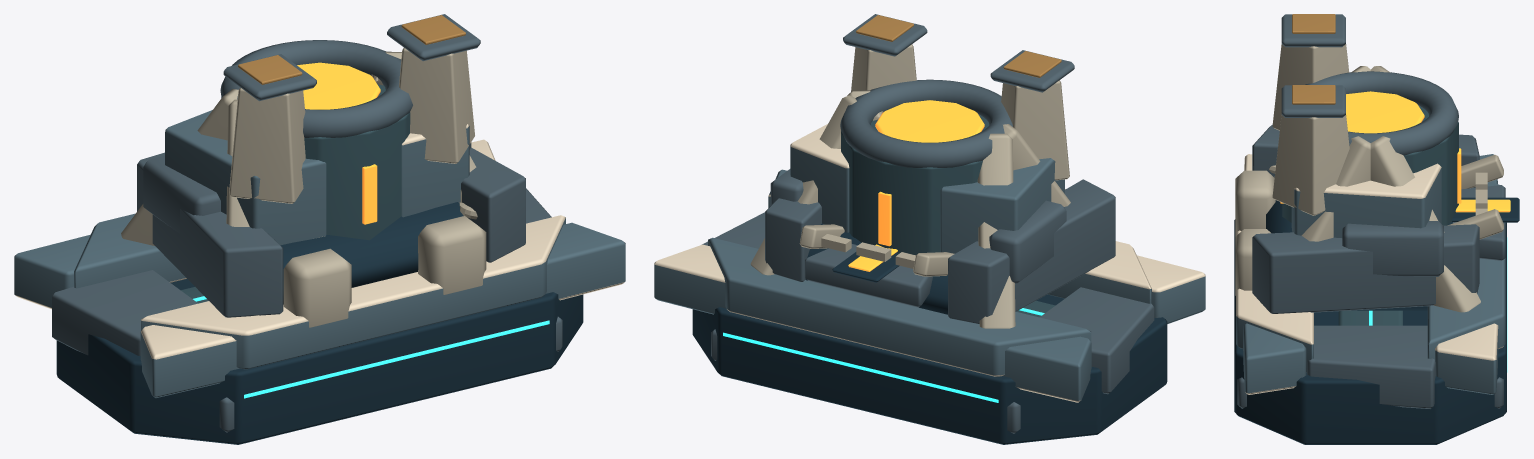
The model's file is refinery.glb.
The picture shows the model from 3 angles, left to right: view 1: azimuth 30°, elevation 25°; view 2: azimuth 150°, elevation 25°; view 3: azimuth 270°, elevation 25°; orthographic projection. The views are drawn at different scales.
Parts seen in each view (by area): view 1: Integrated tapered pressure socket.001, Common flared primary load bank.002, Furnace lower buttress shell, Tall angled chamber armor, Twelve-facet heat chamber, Closed faceted ore tower, Visible heavy socket-to-ring shear key.002, Heavy furnace upper clamp, Closed faceted ore tower.001, Four flared armored spine transitions.004, One furnace lower pressure foundation, Furnace lower buttress shell.001 (+17 smaller); view 2: Integrated tapered pressure socket.001, Common flared primary load bank.003, Furnace lower buttress shell, Twelve-facet heat chamber, Heavy furnace upper clamp, Tall angled chamber armor, Visible heavy socket-to-ring shear key.002, Four flared armored spine transitions.005, Closed faceted ore tower, Four flared armored spine transitions.007, Tall angled chamber armor.001, Contained amber furnace core (+22 smaller); view 3: Integrated tapered pressure socket.001, Furnace lower buttress shell.001, Visible heavy socket-to-ring shear key.003, Tall angled chamber armor.001, Closed faceted ore tower.001, Heavy furnace upper clamp, Outer heat louver bank.001, Common flared primary load bank.003, Four flared armored spine transitions.006, Four flared armored spine transitions.007, Twin return load legs.001, Contained amber furnace core (+18 smaller).
Boxes of the visible parts, x1,y1,x2,y2 form: Integrated tapered pressure socket.001: (56,279,583,444); Common flared primary load bank.002: (141,215,565,369); Furnace lower buttress shell: (137,152,283,317); Tall angled chamber armor: (165,110,326,245); Twelve-facet heat chamber: (221,84,410,240); Closed faceted ore tower: (229,87,305,203); Visible heavy socket-to-ring shear key.002: (52,270,198,355); Heavy furnace upper clamp: (220,40,412,137); Closed faceted ore tower.001: (399,48,474,163); Four flared armored spine transitions.004: (140,325,239,397); One furnace lower pressure foundation: (280,202,463,304); Furnace lower buttress shell.001: (461,147,525,262); Integrated tapered pressure socket.001: (692,294,1167,444); Common flared primary load bank.003: (708,237,1091,376); Furnace lower buttress shell: (948,179,1115,323); Twelve-facet heat chamber: (841,114,989,255); Heavy furnace upper clamp: (840,79,1012,167); Tall angled chamber armor: (940,158,1064,253); Visible heavy socket-to-ring shear key.002: (1039,287,1154,394); Four flared armored spine transitions.005: (1003,336,1091,402); Closed faceted ore tower: (1001,80,1069,180); Four flared armored spine transitions.007: (654,244,725,314); Tall angled chamber armor.001: (790,124,849,232); Contained amber furnace core: (875,100,984,142); Integrated tapered pressure socket.001: (1234,219,1506,444); Furnace lower buttress shell.001: (1252,224,1479,313); Visible heavy socket-to-ring shear key.003: (1306,325,1435,408); Tall angled chamber armor.001: (1291,163,1441,237); Closed faceted ore tower.001: (1272,115,1349,215); Heavy furnace upper clamp: (1305,71,1458,155); Outer heat louver bank.001: (1342,221,1443,276); Common flared primary load bank.003: (1427,181,1505,359); Four flared armored spine transitions.006: (1243,323,1306,394); Four flared armored spine transitions.007: (1435,323,1498,394); Twin return load legs.001: (1370,136,1480,312); Contained amber furnace core: (1346,91,1424,133).
Bounding box in the file's own units: 3.24 × 2.14 × 1.91.
